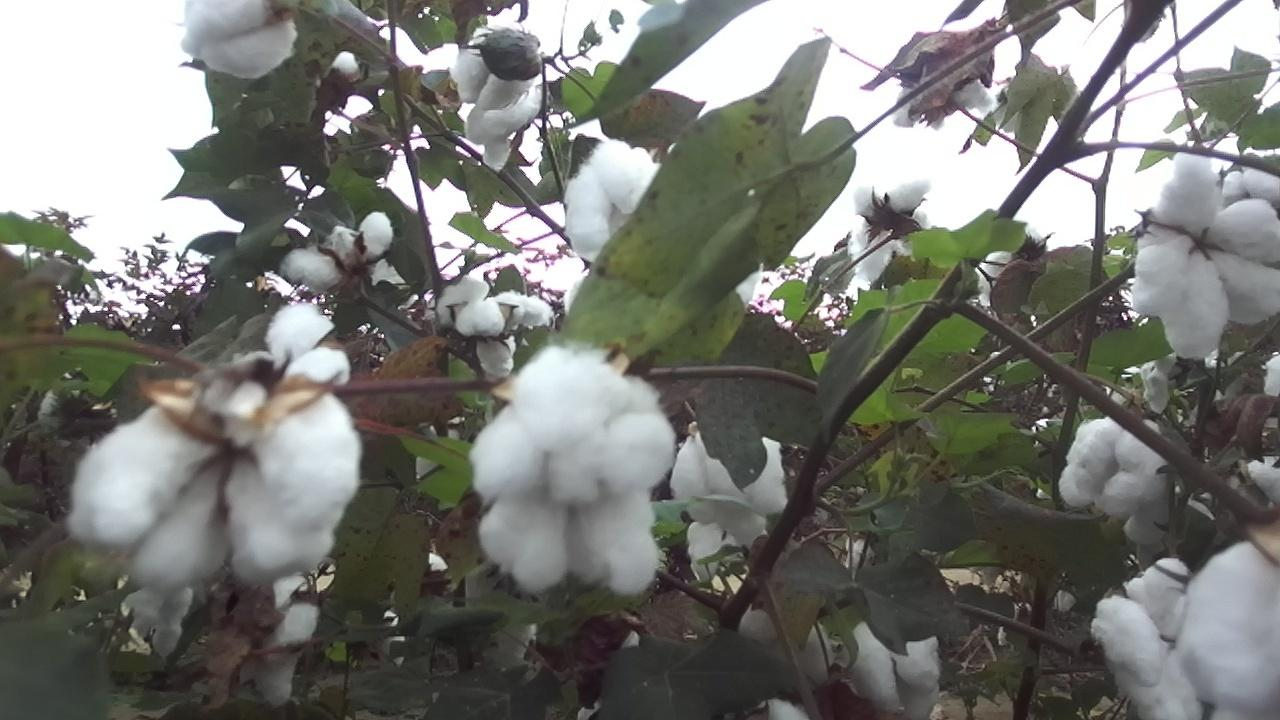cotton_ready: (68, 387, 362, 595), (468, 344, 677, 594), (1134, 150, 1280, 362), (1180, 544, 1280, 720), (399, 555, 537, 679), (1092, 595, 1202, 720), (669, 434, 787, 541), (435, 275, 550, 382), (564, 139, 657, 261), (237, 569, 320, 704), (1064, 417, 1169, 521), (848, 610, 942, 720), (280, 212, 399, 293), (180, 0, 295, 80), (854, 174, 933, 286), (245, 304, 352, 386), (737, 609, 834, 696), (452, 35, 534, 111), (465, 93, 543, 170), (1122, 560, 1189, 648), (121, 581, 197, 657), (978, 230, 1045, 314), (1205, 354, 1280, 429), (893, 77, 994, 127), (688, 520, 732, 579), (1242, 454, 1280, 502)
